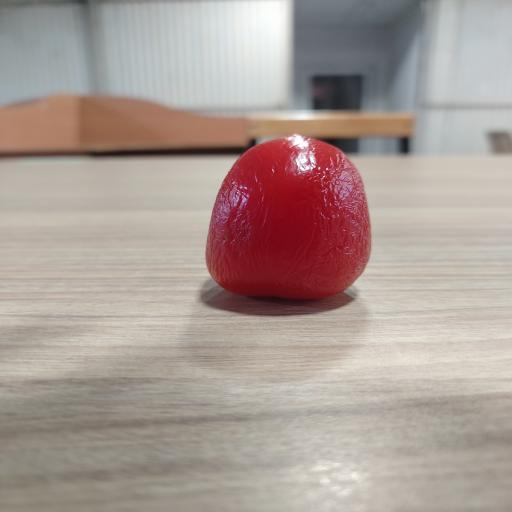spoiled: (206, 135, 371, 299)
